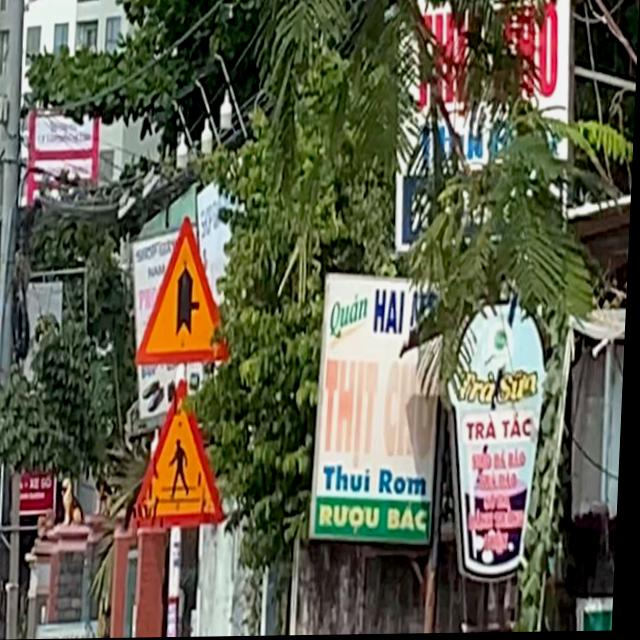Giao nhau voi duong khong uu tien ben phai: (138, 216, 239, 367)
Nguoi di bo cat ngang: (132, 379, 235, 532)
